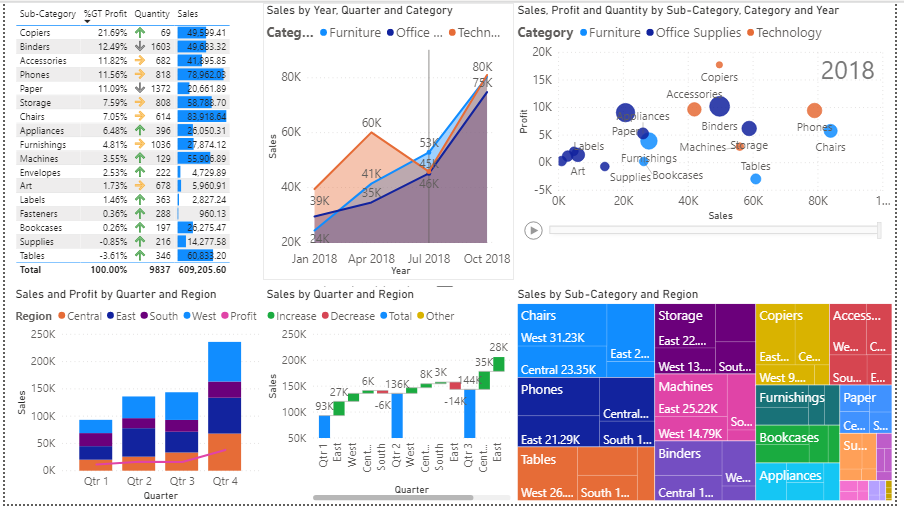

This screenshot's page, from the dashboard's own definition file:
{"tool":"powerbi","page":{"name":"Page 2","canvas":[1280,720],"ordinal":1},"visuals":[{"type":"tableEx","fields":{"Values":["Orders.Sub-Category","Sum(Orders.Profit)","Sum(Orders.Quantity)","Sum(Orders.Segment Hierarchy.Sales)"]},"box":[10.1,0,360.7,398.1],"z":0},{"type":"areaChart","fields":{"Category":["Orders.Order Date.Variation.Date Hierarchy.Year","Orders.Order Date.Variation.Date Hierarchy.Quarter","Orders.Order Date.Variation.Date Hierarchy.Month","Orders.Order Date.Variation.Date Hierarchy.Day"],"Y":["Sum(Orders.Sales)"],"Series":["Orders.Category"]},"box":[370.8,0,360.7,398.1],"z":1000},{"type":"lineStackedColumnComboChart","fields":{"Y2":["Sum(Orders.Profit)"],"Series":["Orders.Region"],"Category":["Orders.Order Date.Variation.Date Hierarchy.Year","Orders.Order Date.Variation.Date Hierarchy.Quarter","Orders.Order Date.Variation.Date Hierarchy.Month","Orders.Order Date.Variation.Date Hierarchy.Day"],"Y":["Sum(Orders.Sales)"]},"box":[10,408,361,312],"z":2000},{"type":"scatterChart","fields":{"X":["Sum(Orders.Sales)"],"Y":["Sum(Orders.Profit)"],"Category":["Orders.Sub-Category"],"Size":["Sum(Orders.Region Hierarchy.Quantity)"],"Series":["Orders.Category"],"Play":["Orders.Order Date.Variation.Date Hierarchy.Year"]},"box":[731.5,0,549,398.1],"z":3000},{"type":"waterfallChart","fields":{"Y":["Sum(Orders.Sales)"],"Breakdown":["Orders.Region"],"Category":["Orders.Order Date.Variation.Date Hierarchy.Year","Orders.Order Date.Variation.Date Hierarchy.Quarter","Orders.Order Date.Variation.Date Hierarchy.Month","Orders.Order Date.Variation.Date Hierarchy.Day"]},"box":[371,408,361,312],"z":4000},{"type":"treemap","fields":{"Group":["Orders.Sub-Category"],"Values":["Sum(Orders.Sales)"],"Details":["Orders.Region Hierarchy.Region"]},"box":[732,408,548,312],"z":5000}]}

Visuals, with their boxes in screenshot pixels (x1, y1, x2, y2), scaled from the page's 1280x720 canvas onto the 904x512 screenshot:
tableEx - Orders.Sub-Category x Sum(Orders.Profit): 7,0,262,283
areaChart - Orders.Order Date.Variation.Date Hierarchy.Year x Orders.Order Date.Variation.Date Hierarchy.Quarter: 262,0,517,283
lineStackedColumnComboChart - Sum(Orders.Profit) x Orders.Region: 7,290,262,511
scatterChart - Sum(Orders.Sales) x Sum(Orders.Profit): 517,0,903,283
waterfallChart - Sum(Orders.Sales) x Orders.Region: 262,290,517,511
treemap - Orders.Sub-Category x Sum(Orders.Sales): 517,290,903,511
